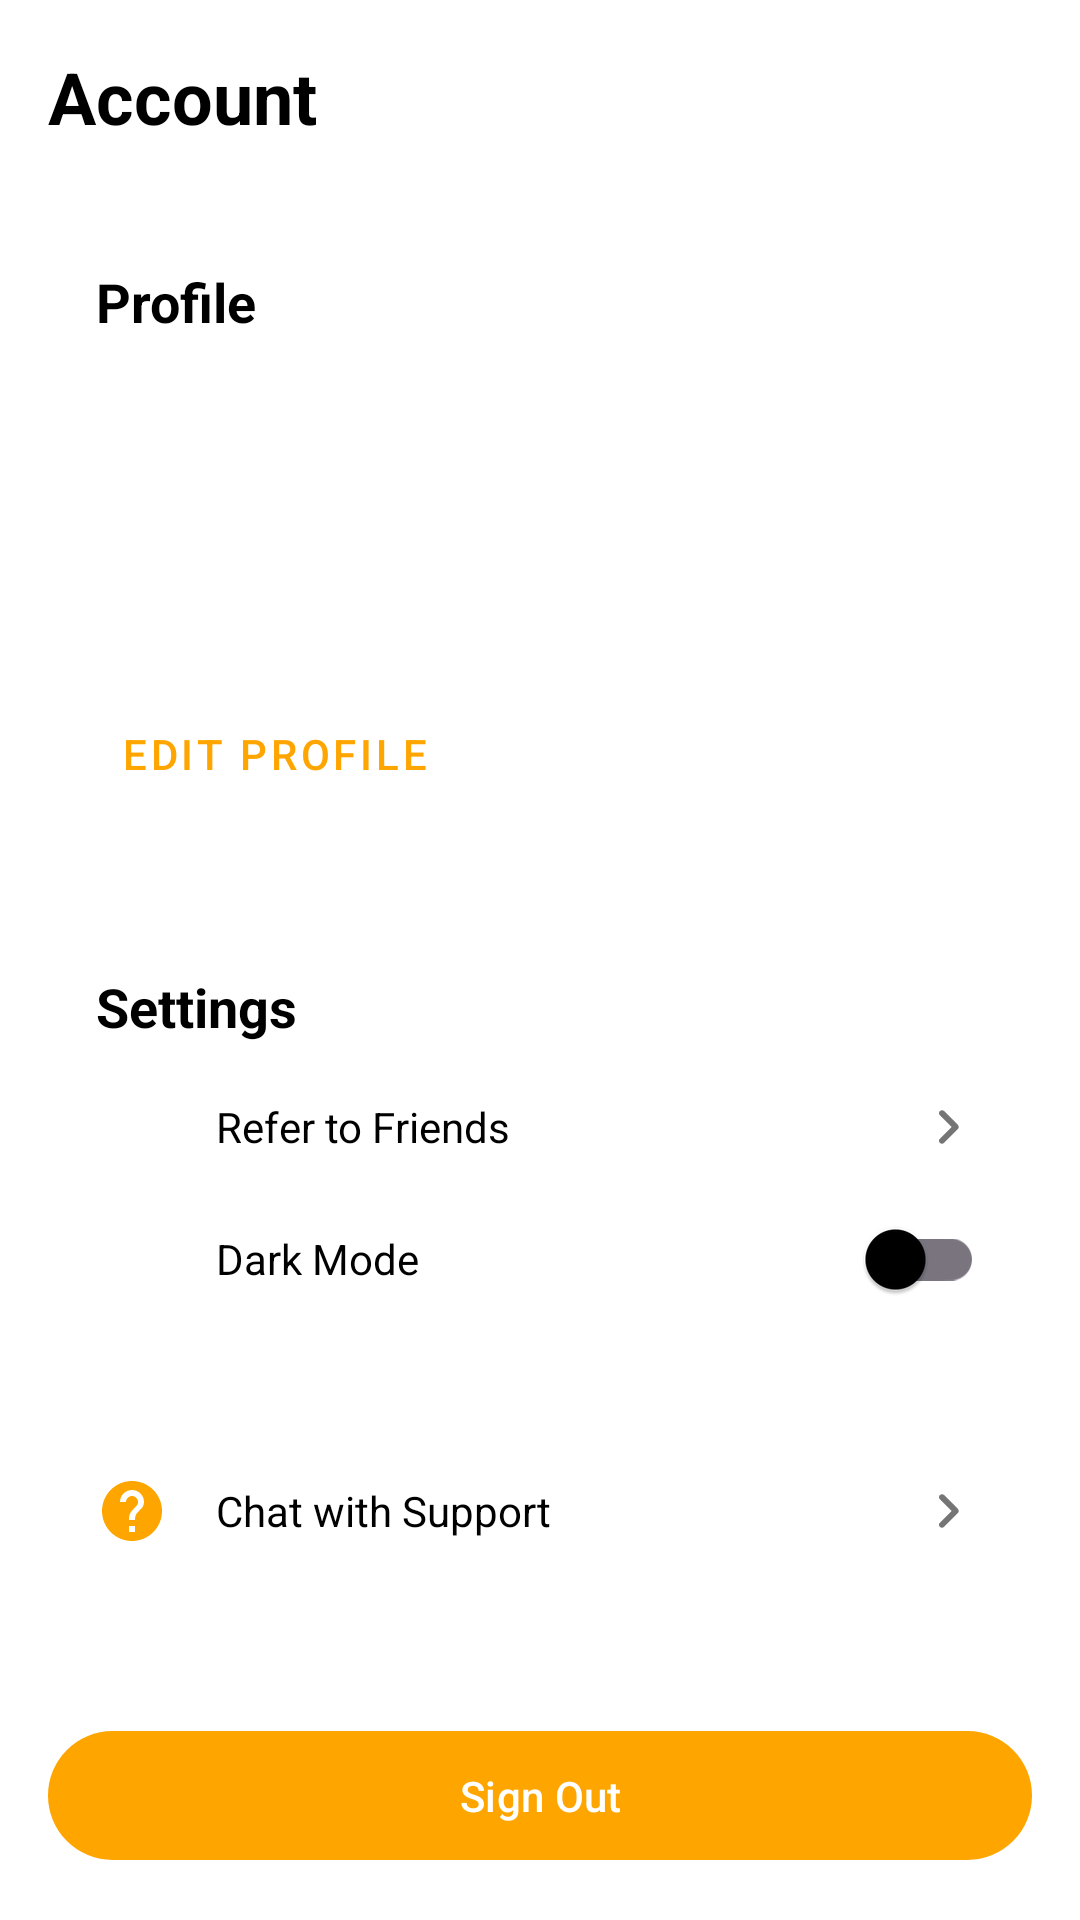

Icons on this 1080 × 1920 Android screen, each with its box as (left=x1, top=y1, right=x2, bottom=y2):
chevron right: (left=939, top=1110, right=959, bottom=1144), (left=939, top=1494, right=959, bottom=1528)
